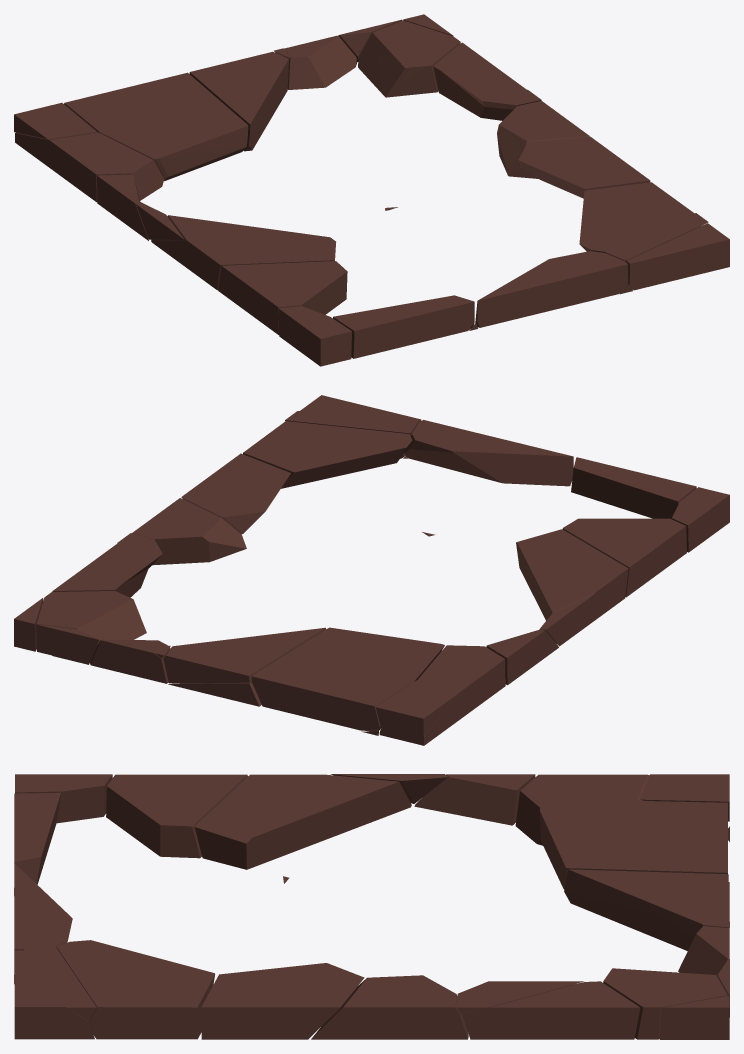
The model's file is SM_Timber_Foundation.fbx.
3 renders of one model, top to bottom at view 1: azimuth 30°, elevation 25°; view 2: azimuth 150°, elevation 25°; view 3: azimuth 270°, elevation 25°, orthographic. The views are drawn at different scales.
Parts seen in each view (by area): view 1: SM_Timber_Foundation; view 2: SM_Timber_Foundation; view 3: SM_Timber_Foundation.
Boxes of the visible parts, box(x1,y1,x2,y2) form: SM_Timber_Foundation: box(14, 14, 729, 366); SM_Timber_Foundation: box(14, 395, 729, 745); SM_Timber_Foundation: box(14, 774, 729, 1039).
Bounding box in the file's own units: 610 × 40 × 790.
